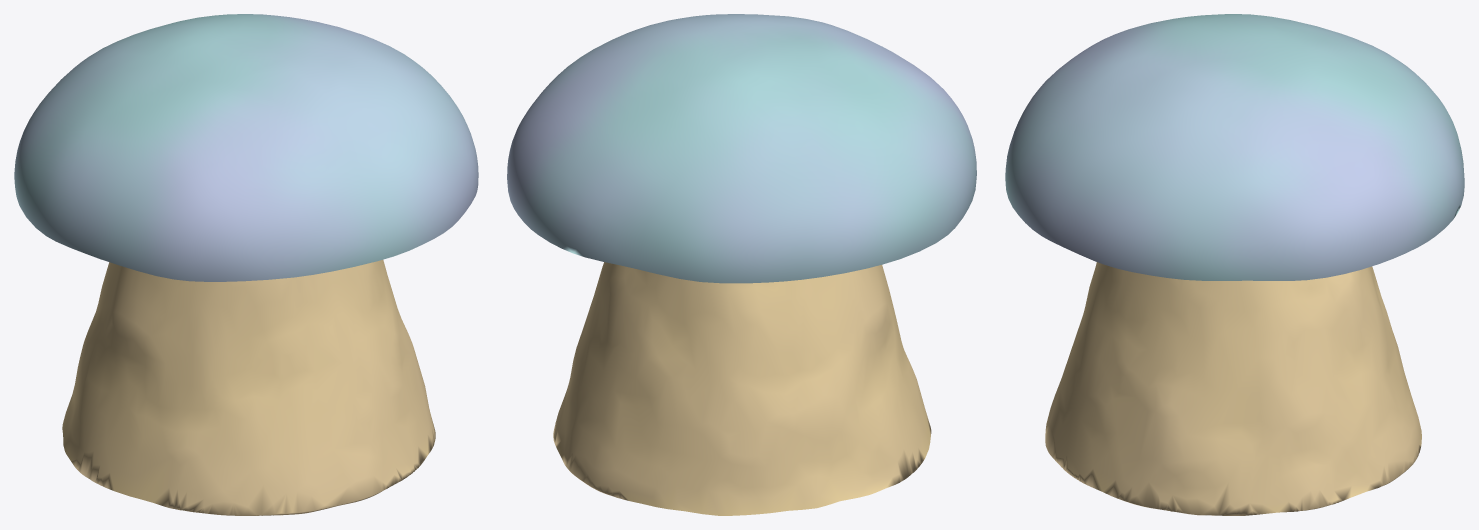
File: floating-cap0.glb
3 renders of one model, left to right at view 1: azimuth 30°, elevation 25°; view 2: azimuth 150°, elevation 25°; view 3: azimuth 270°, elevation 25°, orthographic.
Parts seen in each view (by area): view 1: body; view 2: body; view 3: body.
Part boxes in pixels (left/top/right/bottom): body: left=14, top=14, right=478, bottom=515; body: left=507, top=14, right=976, bottom=515; body: left=1005, top=14, right=1464, bottom=515.
Bounding box in the file's own units: 1.04 × 0.9602 × 1.03.
